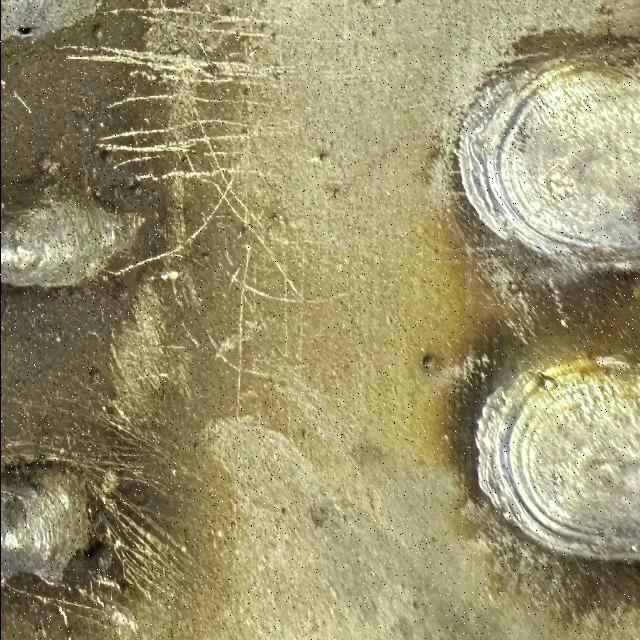Excess Reinforcement: (457, 68, 542, 238), (475, 387, 524, 520), (84, 203, 144, 277), (66, 47, 158, 68), (8, 561, 68, 585)
Spatters: (537, 370, 556, 392), (12, 92, 30, 113), (422, 353, 440, 373), (91, 23, 102, 42), (241, 85, 251, 102), (206, 65, 219, 78), (237, 223, 248, 238), (89, 367, 99, 382), (598, 5, 611, 15), (270, 212, 280, 225), (272, 68, 282, 80), (229, 520, 236, 535), (201, 252, 209, 263), (92, 188, 100, 198), (331, 187, 338, 198), (559, 318, 566, 328), (258, 23, 265, 32), (226, 7, 232, 17), (301, 428, 306, 440), (280, 507, 286, 517), (319, 152, 326, 160), (24, 338, 30, 345), (170, 468, 175, 476), (168, 177, 175, 182), (38, 72, 41, 77)
